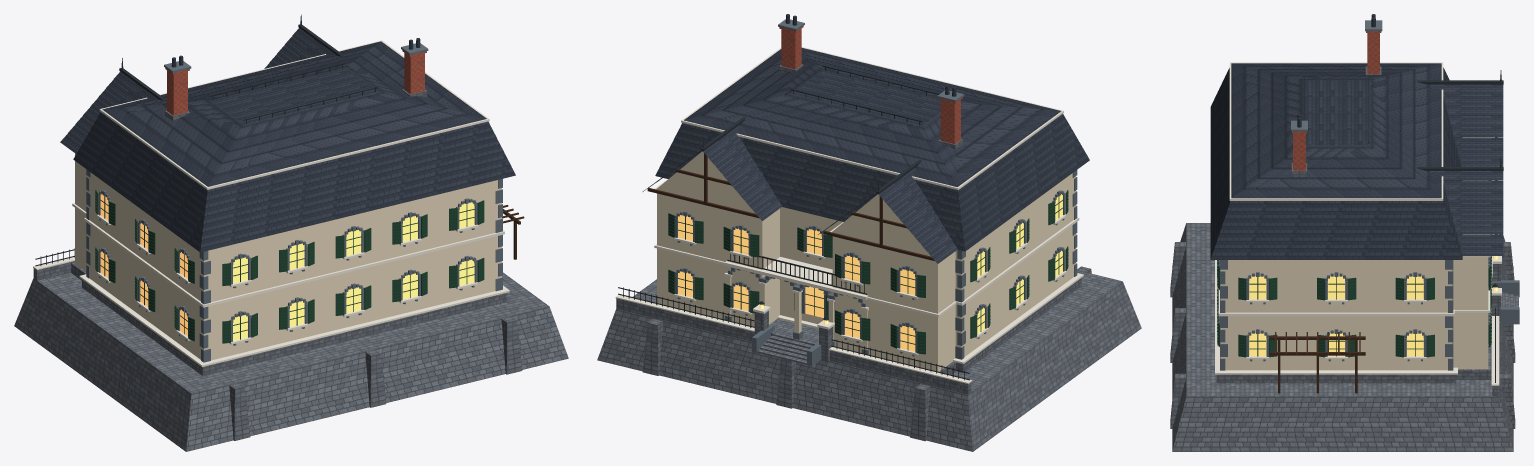
File: fv_lhp_06_pasteur_villa_28_mansard_noble_manor.glb
3 renders of one model, left to right at view 1: azimuth 30°, elevation 25°; view 2: azimuth 150°, elevation 25°; view 3: azimuth 270°, elevation 25°, orthographic.
Parts seen in each view (by area): view 1: Normandy_Brittany_Layered_Roof, Foundation_Skirt_Neg3p5m, Villa_Stucco_Walls, Molded_Cornices_And_Sills, PineGreen_Louvered_Shutters, Stone_Quoins_And_Arches, Warm_Night_Windows_20h00_Blend, Brick_Chimney_Stacks, Wrought_Iron_Balustrades_And_Gate, Roof_Ridges_Caps_And_Finials; view 2: Normandy_Brittany_Layered_Roof, Foundation_Skirt_Neg3p5m, Villa_Stucco_Walls, Molded_Cornices_And_Sills, Stone_Quoins_And_Arches, PineGreen_Louvered_Shutters, Warm_Night_Windows_20h00_Blend, Wrought_Iron_Balustrades_And_Gate, Exposed_Timber_Trusses_And_Rafters, Brick_Chimney_Stacks, Roof_Ridges_Caps_And_Finials; view 3: Normandy_Brittany_Layered_Roof, Foundation_Skirt_Neg3p5m, Villa_Stucco_Walls, Molded_Cornices_And_Sills, Stone_Quoins_And_Arches, PineGreen_Louvered_Shutters, Warm_Night_Windows_20h00_Blend, Exposed_Timber_Trusses_And_Rafters, Brick_Chimney_Stacks, Roof_Ridges_Caps_And_Finials.
Part boxes in pixels (x1,y1,x2,y2): Normandy_Brittany_Layered_Roof: (60, 28, 515, 252); Foundation_Skirt_Neg3p5m: (14, 89, 568, 451); Villa_Stucco_Walls: (75, 153, 501, 360); Molded_Cornices_And_Sills: (33, 40, 509, 366); PineGreen_Louvered_Shutters: (95, 189, 484, 343); Stone_Quoins_And_Arches: (86, 43, 502, 362); Warm_Night_Windows_20h00_Blend: (100, 194, 474, 340); Brick_Chimney_Stacks: (165, 50, 426, 115); Wrought_Iron_Balustrades_And_Gate: (35, 63, 378, 266); Roof_Ridges_Caps_And_Finials: (119, 14, 344, 100); Normandy_Brittany_Layered_Roof: (644, 14, 1089, 263); Foundation_Skirt_Neg3p5m: (597, 64, 1141, 451); Villa_Stucco_Walls: (656, 151, 1076, 371); Molded_Cornices_And_Sills: (615, 47, 1083, 383); Stone_Quoins_And_Arches: (675, 19, 1077, 366); PineGreen_Louvered_Shutters: (668, 190, 1068, 354); Warm_Night_Windows_20h00_Blend: (678, 194, 1062, 351); Wrought_Iron_Balustrades_And_Gate: (618, 65, 969, 380); Exposed_Timber_Trusses_And_Rafters: (647, 153, 934, 260); Brick_Chimney_Stacks: (779, 26, 962, 144); Roof_Ridges_Caps_And_Finials: (642, 117, 921, 234); Normandy_Brittany_Layered_Roof: (1210, 14, 1503, 259); Foundation_Skirt_Neg3p5m: (1170, 66, 1518, 451); Villa_Stucco_Walls: (1220, 137, 1488, 370); Molded_Cornices_And_Sills: (1215, 62, 1501, 385); Stone_Quoins_And_Arches: (1218, 20, 1519, 370); PineGreen_Louvered_Shutters: (1217, 180, 1491, 357); Warm_Night_Windows_20h00_Blend: (1249, 256, 1497, 356); Exposed_Timber_Trusses_And_Rafters: (1270, 137, 1497, 393); Brick_Chimney_Stacks: (1292, 31, 1381, 170); Roof_Ridges_Caps_And_Finials: (1416, 70, 1503, 170).
Size of the model in its own units: 28.52 by 20.8 by 22.32.
Materials: 12 (3 with a texture image).
